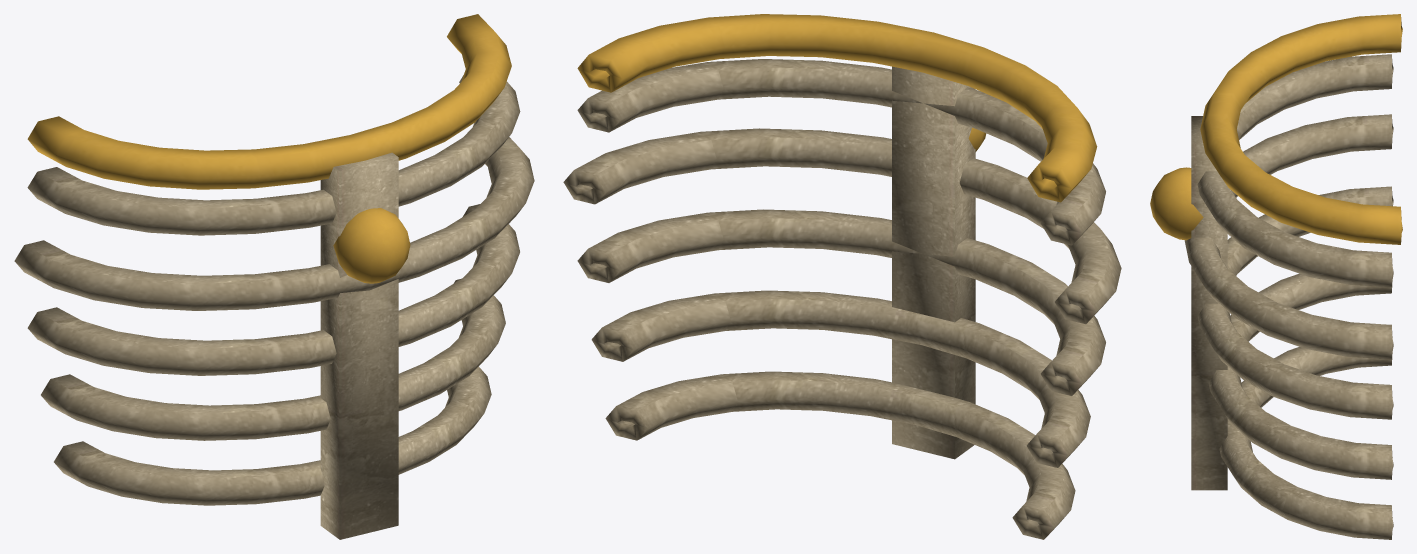
File: hm_king_ribcage.glb
The picture shows the model from 3 angles, left to right: view 1: azimuth 30°, elevation 25°; view 2: azimuth 150°, elevation 25°; view 3: azimuth 270°, elevation 25°; orthographic projection. The views are drawn at different scales.
Parts seen in each view (by area): view 1: king_ribcage; view 2: king_ribcage; view 3: king_ribcage.
Part boxes in pixels (box(x1,y1,x2,y2)): king_ribcage: box(14, 14, 534, 539); king_ribcage: box(563, 14, 1121, 539); king_ribcage: box(1150, 14, 1402, 539).
Size of the model in its own units: 0.5928 by 0.4373 by 0.2771.
Materials: 1 (1 with a texture image).
